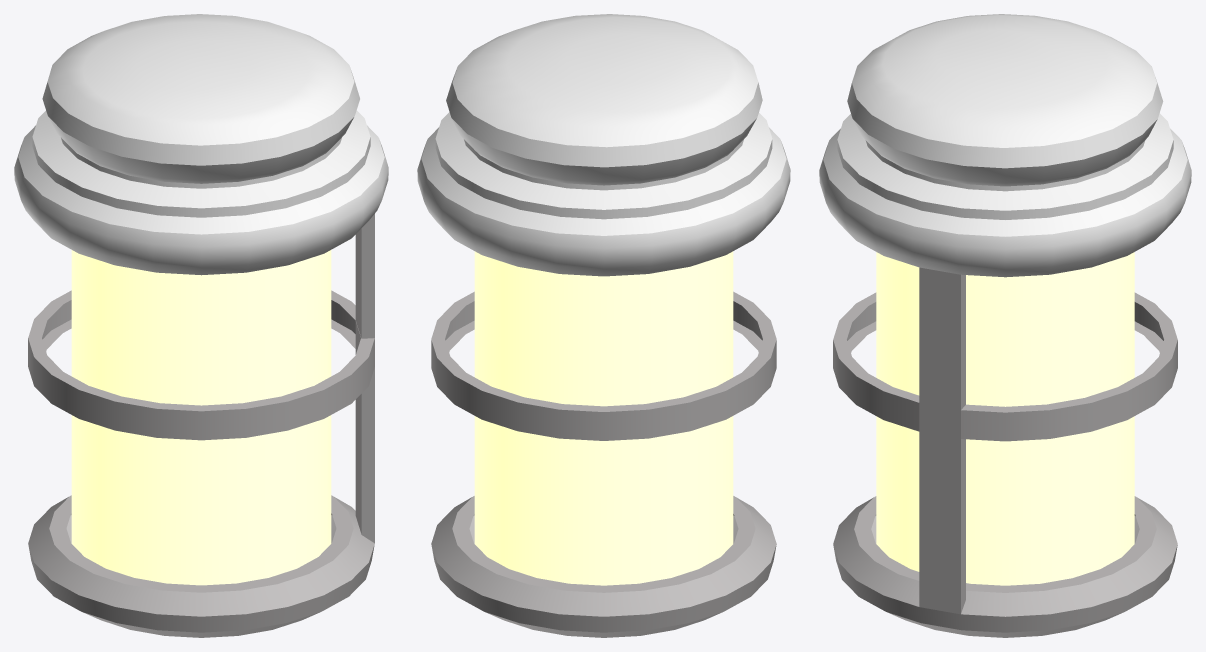
File: FloorLight_01.fbx
3 views of the same model, side by side, from view 1: azimuth 30°, elevation 25°; view 2: azimuth 150°, elevation 25°; view 3: azimuth 270°, elevation 25° (orthographic).
Visible parts, largest first — view 1: Cylinder.046; view 2: Cylinder.046; view 3: Cylinder.046.
Boxes of the visible parts, box(x1,y1,x2,y2) form: Cylinder.046: box(14, 14, 388, 637); Cylinder.046: box(417, 14, 790, 637); Cylinder.046: box(819, 14, 1191, 637).
Size of the model in its own units: 59.82 by 91.65 by 59.82.
